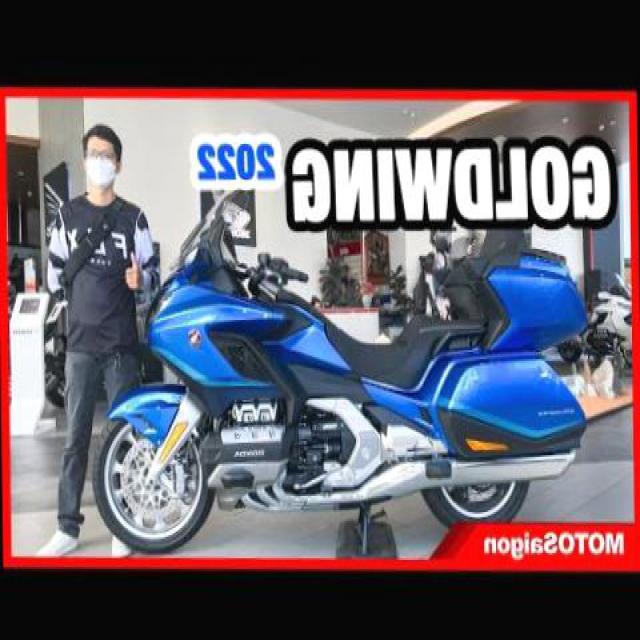Gold Wing: (86, 172, 594, 572)
